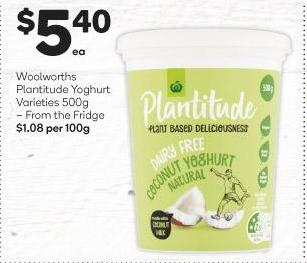description_block: (8, 68, 111, 123)
price_main: (11, 4, 114, 61)
product_image_block: (116, 25, 302, 255)
unit_price_block: (10, 121, 98, 139)
